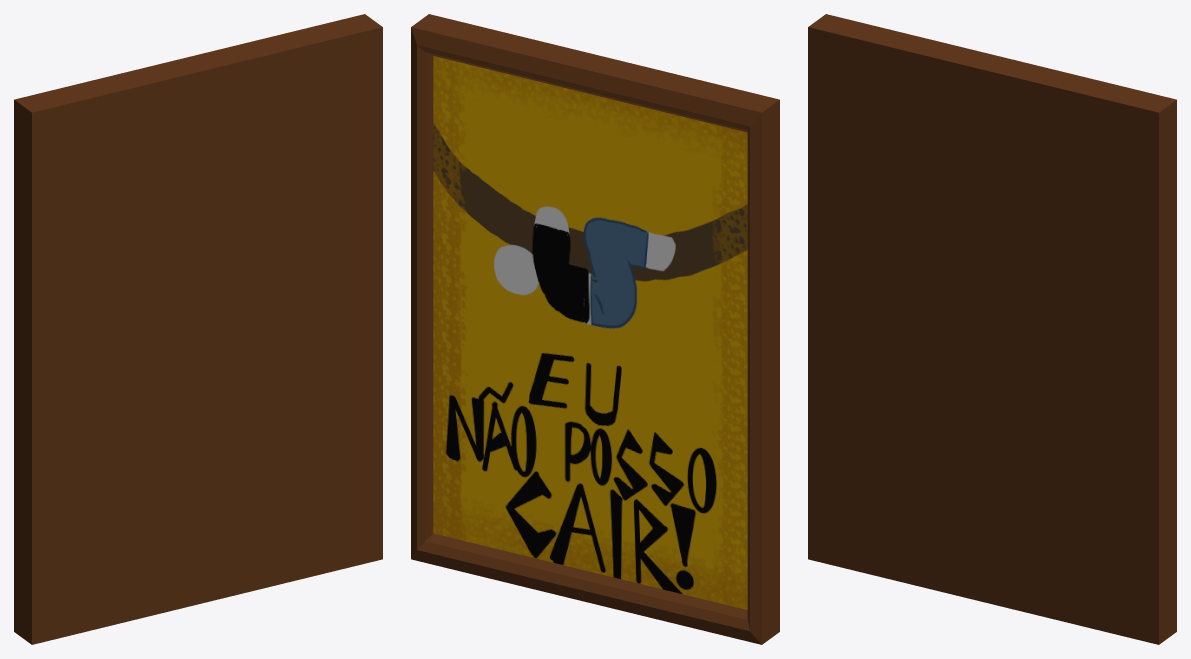
File: QuadroVertical.fbx
3 renders of one model, left to right at view 1: azimuth 30°, elevation 25°; view 2: azimuth 150°, elevation 25°; view 3: azimuth 330°, elevation 25°, orthographic.
Parts seen in each view (by area): view 1: Cube; view 2: Cube; view 3: Cube.
Boxes of the visible parts, x1,y1,x2,y2 form: Cube: (14, 14, 382, 644); Cube: (411, 14, 779, 644); Cube: (808, 14, 1176, 644).
Bounding box in the file's own units: 200 × 20.64 × 290.
2 materials, 1 textured.
